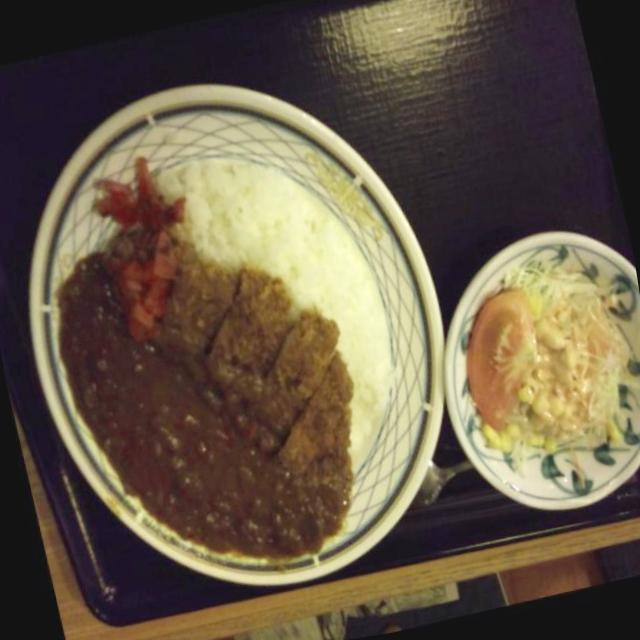Green Salad: (421, 257, 640, 521)
